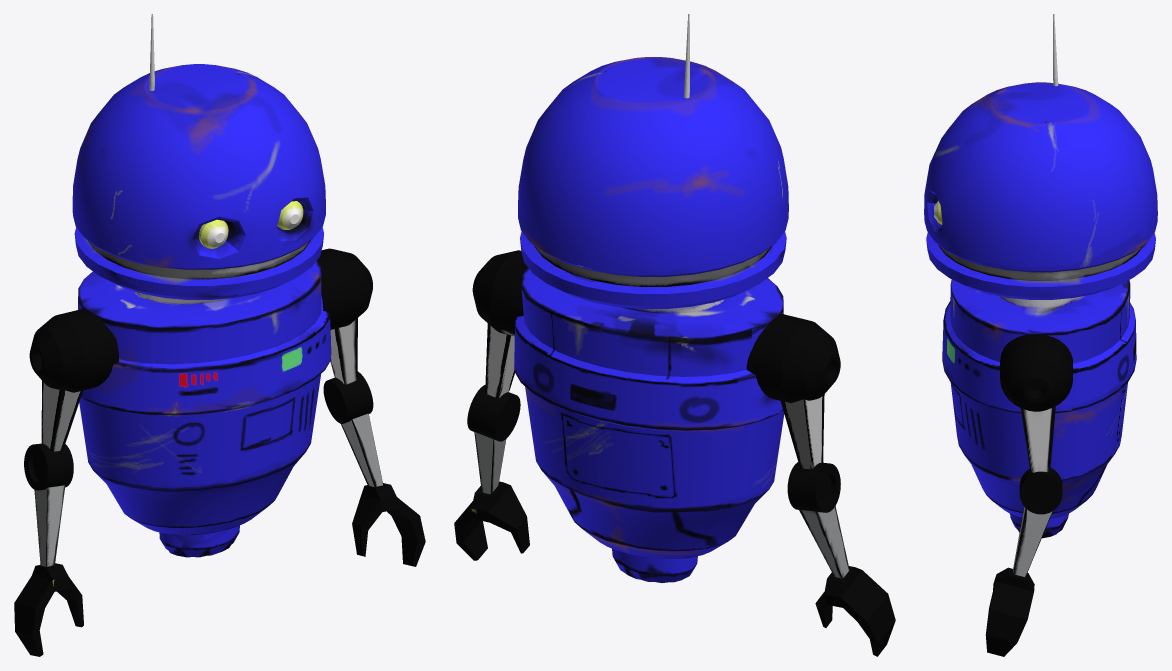
File: robotBody.fbx
The picture shows the model from 3 angles, left to right: view 1: azimuth 30°, elevation 25°; view 2: azimuth 150°, elevation 25°; view 3: azimuth 270°, elevation 25°; orthographic projection. The views are drawn at different scales.
Parts seen in each view (by area): view 1: Circle, Circle.002, Cube.004, Circle.003, Cube.005, Cube.001, Cylinder.001, Cube.002, Cylinder, Cube.003, Cube, Circle.005; view 2: Circle, Circle.002, Cube.004, Cube.005, Circle.003, Cube.001, Cylinder.001, Cylinder, Cube.002, Cube, Cube.003; view 3: Circle, Circle.003, Cube.005, Cube, Cylinder, Cube.003.
Boxes of the visible parts, x1=… form: Circle: x1=72, y1=64, x2=331, y2=557; Circle.002: x1=29, y1=309, x2=118, y2=392; Cube.004: x1=14, y1=563, x2=83, y2=656; Circle.003: x1=317, y1=248, x2=372, y2=329; Cube.005: x1=352, y1=483, x2=425, y2=566; Cube.001: x1=41, y1=381, x2=82, y2=451; Cylinder.001: x1=24, y1=443, x2=73, y2=490; Cube.002: x1=34, y1=485, x2=65, y2=566; Cylinder: x1=323, y1=371, x2=373, y2=423; Cube.003: x1=341, y1=413, x2=383, y2=486; Cube: x1=330, y1=318, x2=357, y2=384; Circle.005: x1=199, y1=219, x2=228, y2=248; Circle: x1=514, y1=57, x2=788, y2=582; Circle.002: x1=746, y1=313, x2=840, y2=403; Cube.004: x1=815, y1=566, x2=895, y2=656; Cube.005: x1=454, y1=481, x2=529, y2=560; Circle.003: x1=472, y1=250, x2=527, y2=336; Cube.001: x1=780, y1=394, x2=824, y2=469; Cylinder.001: x1=787, y1=462, x2=840, y2=512; Cylinder: x1=467, y1=385, x2=520, y2=441; Cube.002: x1=799, y1=506, x2=849, y2=578; Cube: x1=485, y1=323, x2=514, y2=398; Cube.003: x1=474, y1=432, x2=506, y2=494; Circle: x1=924, y1=82, x2=1157, y2=538; Circle.003: x1=1000, y1=334, x2=1073, y2=411; Cube.005: x1=985, y1=567, x2=1034, y2=656; Cube: x1=1020, y1=390, x2=1055, y2=472; Cylinder: x1=1019, y1=468, x2=1062, y2=514; Cube.003: x1=1013, y1=507, x2=1052, y2=577.
Bounding box in the file's own units: 354 × 503 × 197.
6 materials, 6 textured.
